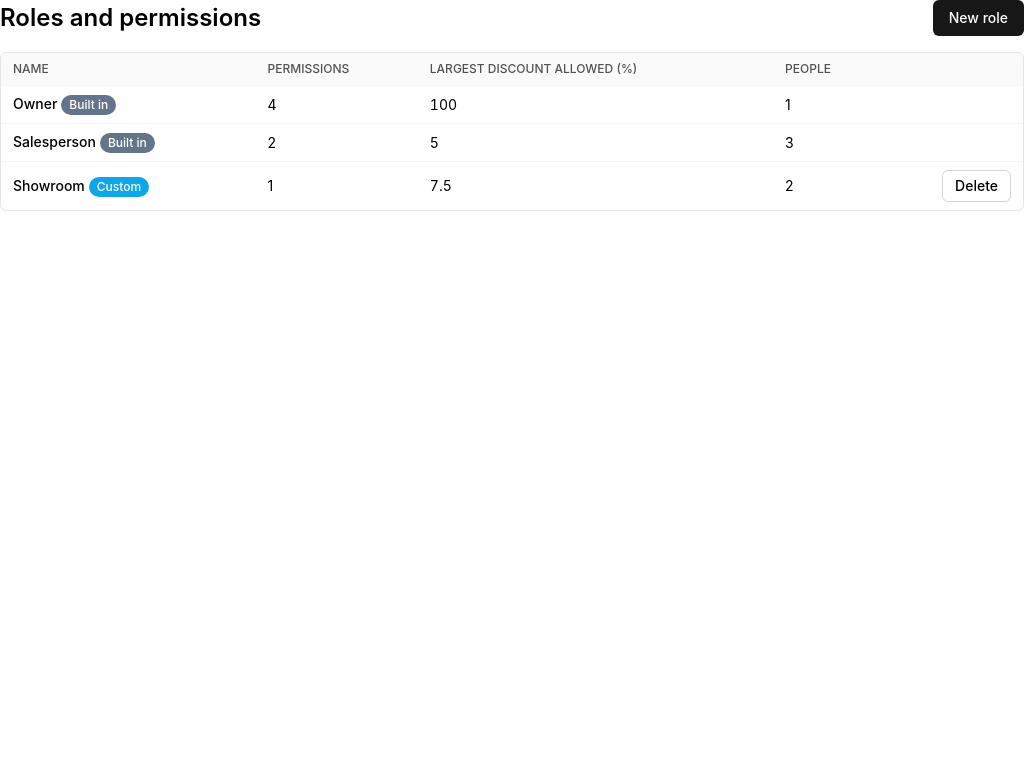
Test: RolesManager › creates a role from grouped permissions, with select-all per group
Click the button "New role": (978,18) [933,0,1023,36]
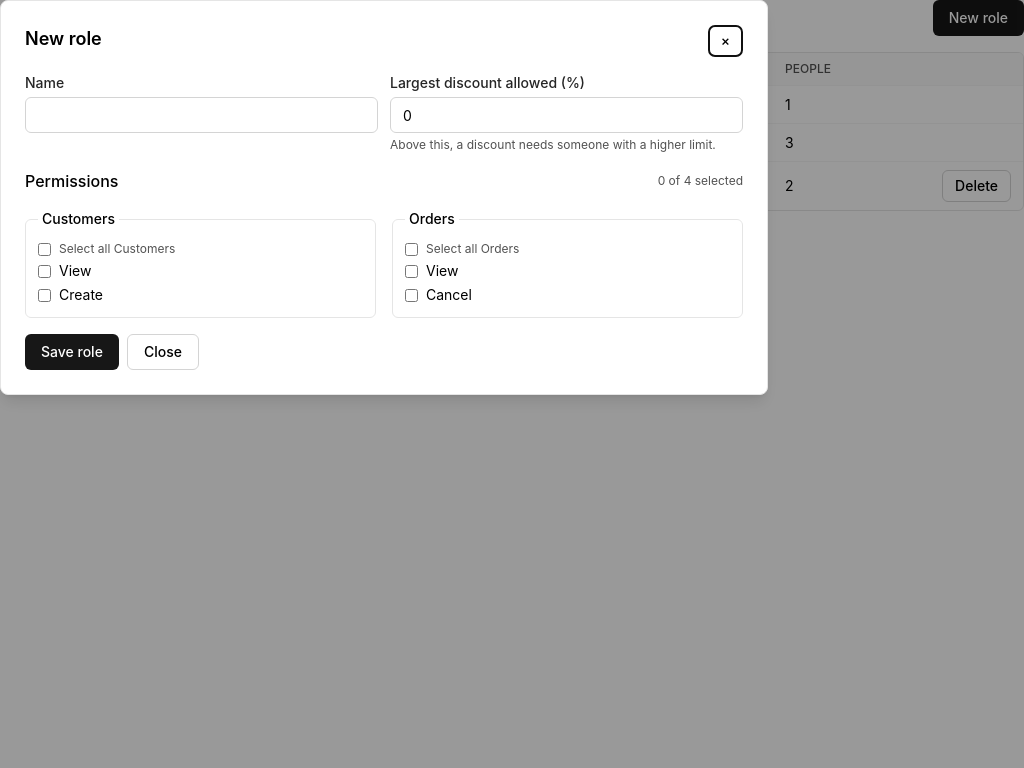
In the field labelled "Name": (202,115) [25,97,378,133], type "Warehouse"
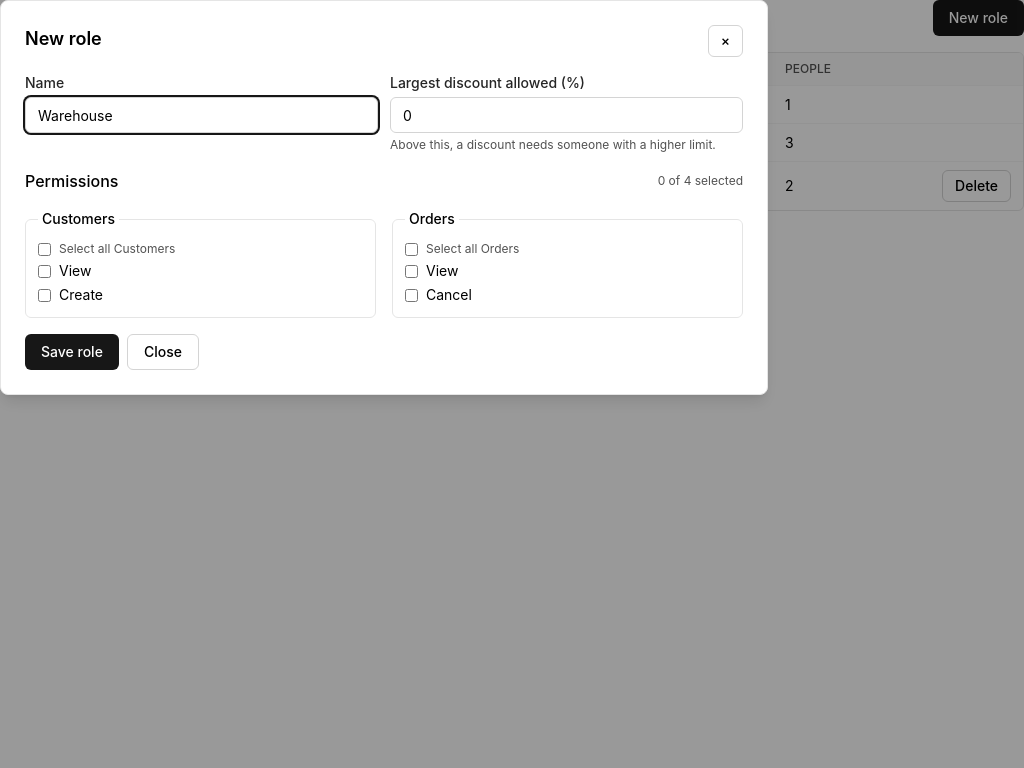
Replace the text in the number field labelled "Largest discount allowed (%)" with "2.5": (566,115) [390,97,743,133]
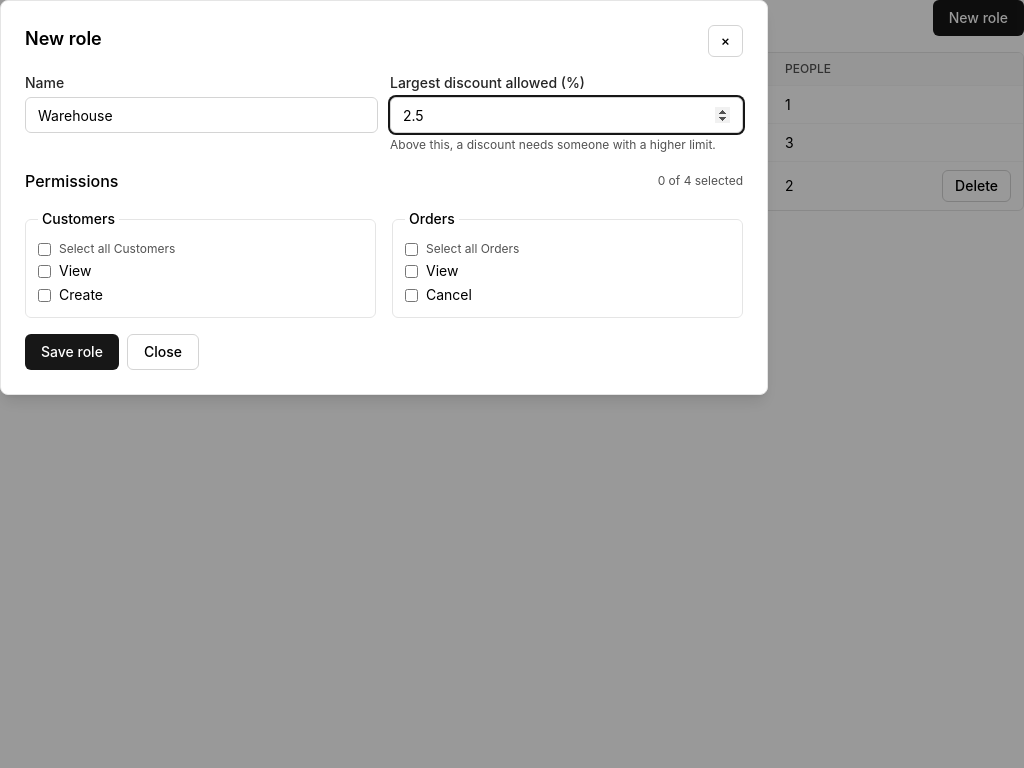
Click the checkbox labelled "Select all Customers": (44,249) [38,242,51,256]
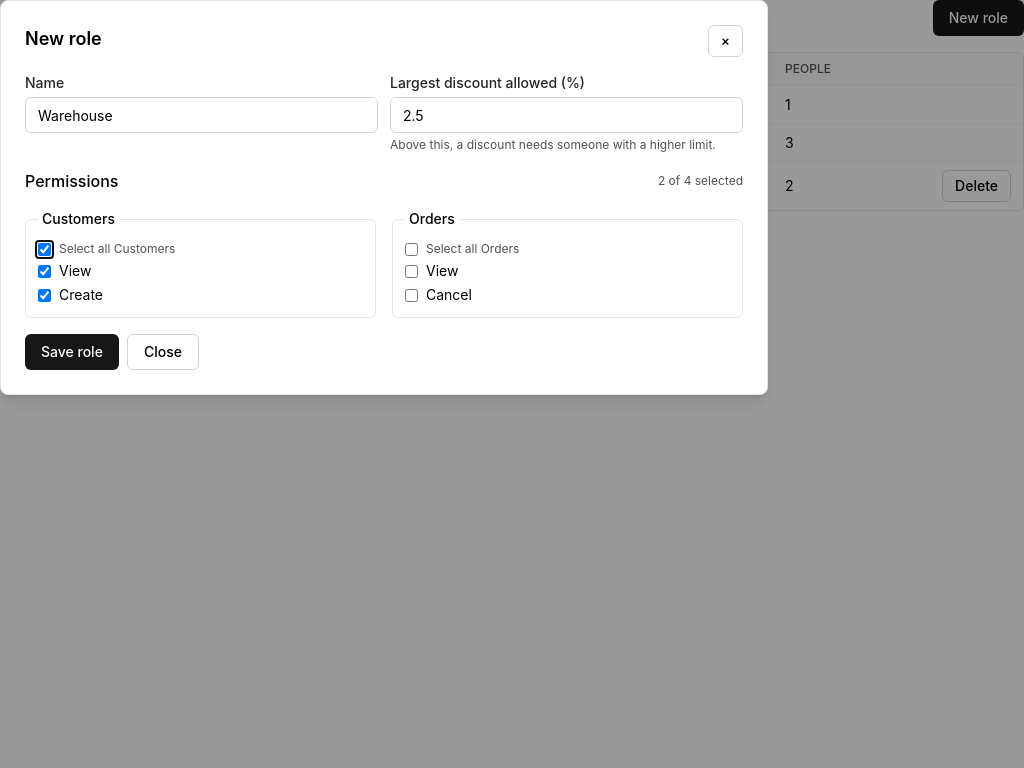
Click the checkbox labelled "View" below "Select all Orders": (412,271) [405,264,418,278]
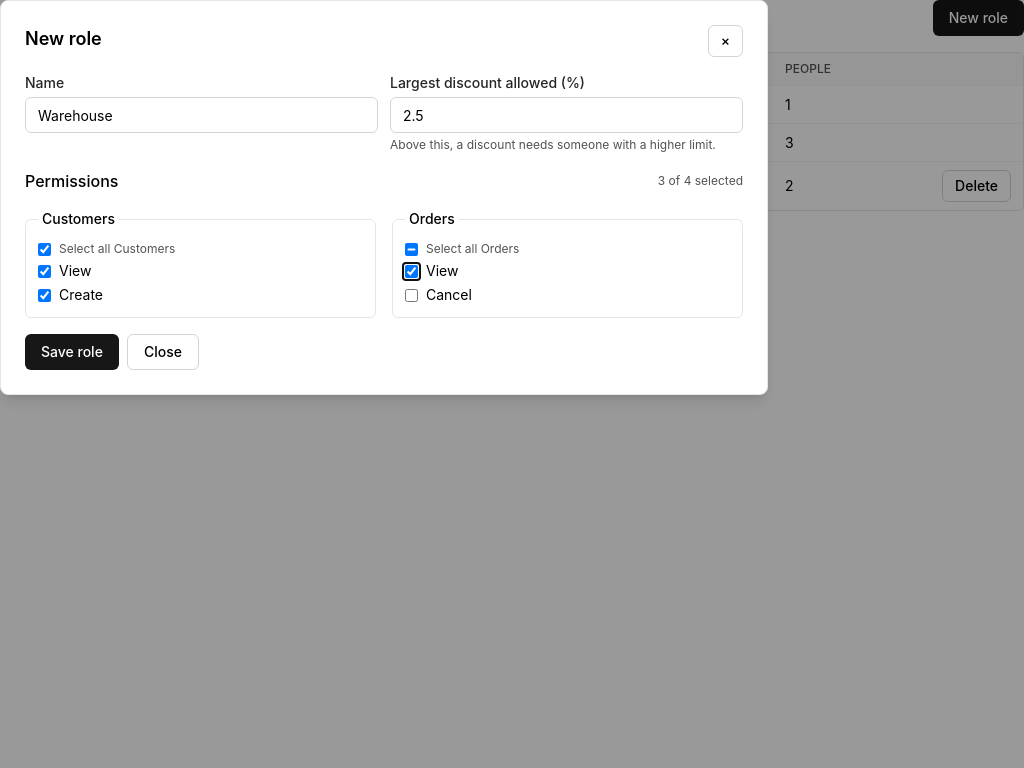
Result: the text "3 of 4 selected" is shown at [658,173,743,189]
Click the button "Save role": (72,352) [25,334,119,370]
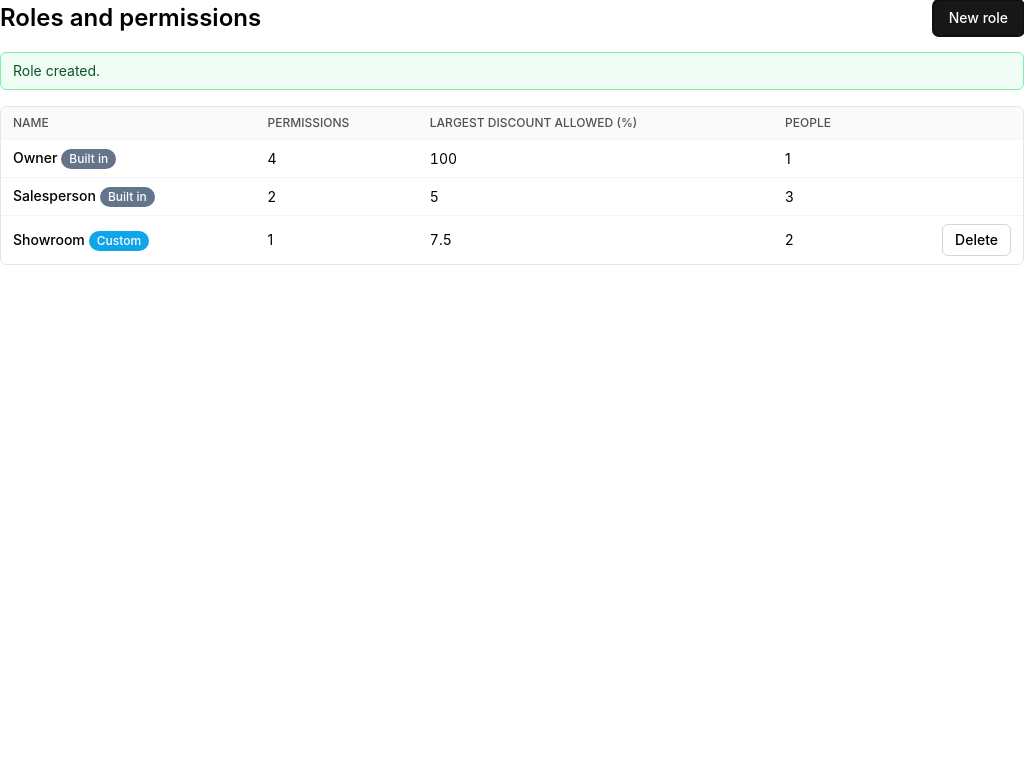
Result: the text "Role created." is shown at [0,52,1023,90]
